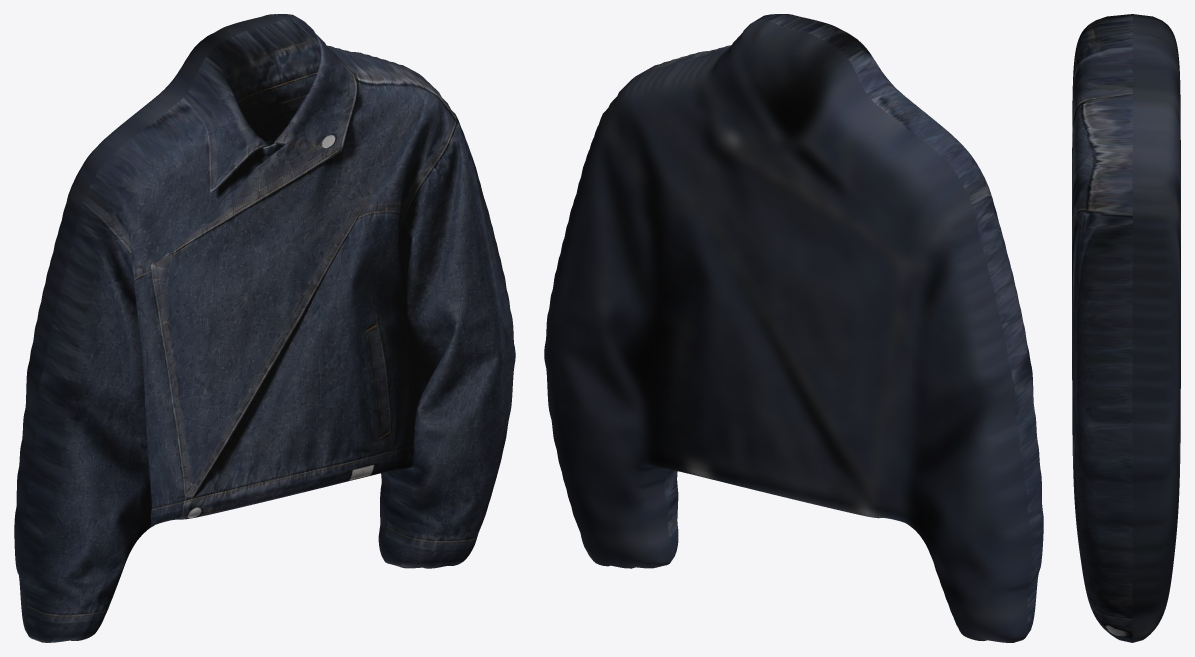
3 renders of one model, left to right at view 1: azimuth 30°, elevation 25°; view 2: azimuth 150°, elevation 25°; view 3: azimuth 270°, elevation 25°, orthographic. The views are drawn at different scales.
Parts seen in each view (by area): view 1: N01; view 2: N01; view 3: N01.
Part boxes in pixels (<box>): N01: <box>14,14,515,642</box>; N01: <box>544,14,1043,642</box>; N01: <box>1072,14,1180,642</box>.
Size of the model in its own units: 1.42 by 1.65 by 0.3057.
Materials: 2 (2 with a texture image).
